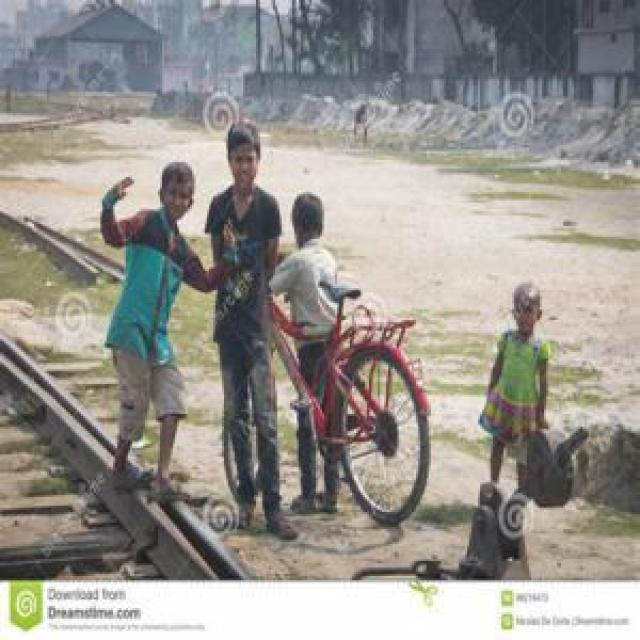danger: (97, 150, 221, 500), (193, 130, 291, 538), (270, 194, 353, 510), (479, 282, 554, 497), (355, 105, 370, 147), (6, 86, 17, 112)
